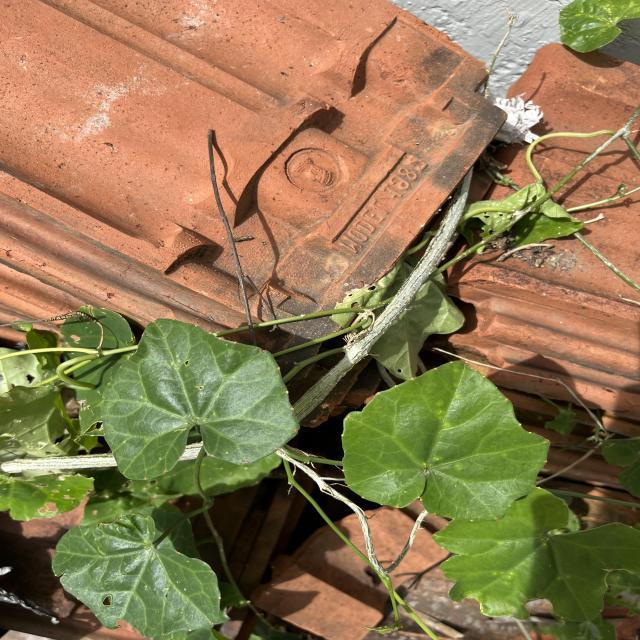Coccinia grandis: (337, 358, 552, 524), (98, 317, 302, 482)
